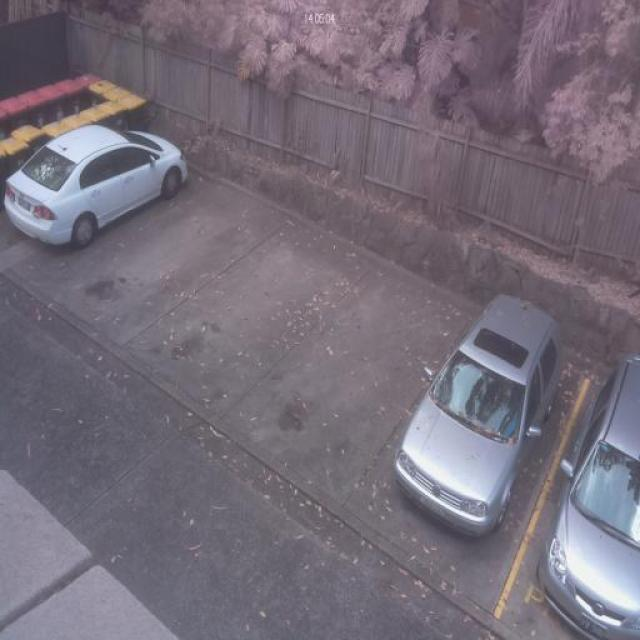Legalparking: (0, 48, 640, 627)
